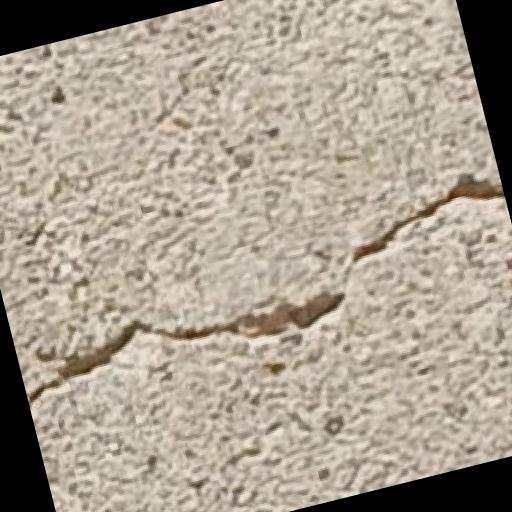spalling: (26, 158, 510, 414)
